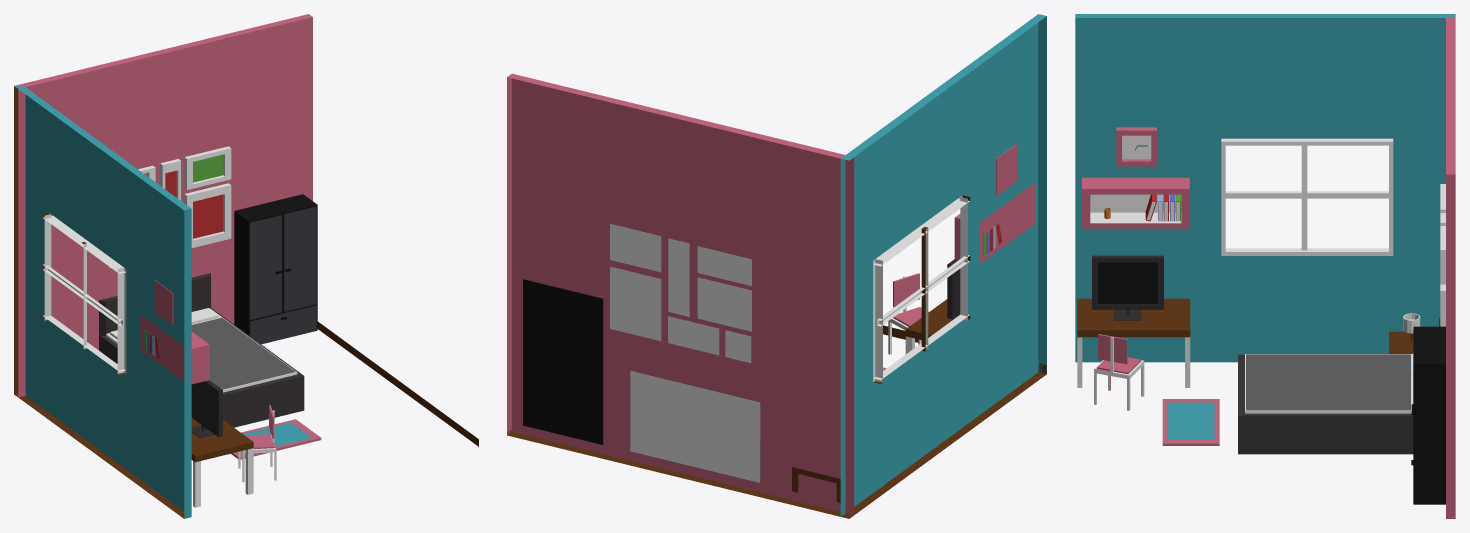
Rendered from room1.fbx.
The picture shows the model from 3 angles, left to right: view 1: azimuth 30°, elevation 25°; view 2: azimuth 150°, elevation 25°; view 3: azimuth 270°, elevation 25°; orthographic projection. The views are drawn at different scales.
Visible parts, largest first — view 1: room, wadrobe, bed, frames, frames.007, frames.003, computer, stool 2, mat, chair, frames.002, frames.008; view 2: room, wadrobe, bed, frames, frames.007, frames.006, frames.003, frames.002, frames.005, frames.001, chair, frames.008 (+3 smaller); view 3: room, bed, wadrobe, frames.007, computer, stool 2, mat, chair, frames.008, stool.
Part boxes in pixels (x1=…): room: x1=14, y1=14, x2=478, y2=518; wadrobe: x1=234, y1=194, x2=317, y2=344; bed: x1=99, y1=273, x2=304, y2=427; frames: x1=184, y1=183, x2=231, y2=248; frames.007: x1=140, y1=314, x2=209, y2=384; frames.003: x1=184, y1=146, x2=231, y2=189; computer: x1=191, y1=380, x2=222, y2=437; stool 2: x1=191, y1=418, x2=253, y2=462; mat: x1=231, y1=419, x2=321, y2=459; chair: x1=238, y1=405, x2=276, y2=482; frames.002: x1=160, y1=159, x2=180, y2=200; frames.008: x1=154, y1=280, x2=173, y2=325; room: x1=507, y1=14, x2=1046, y2=518; wadrobe: x1=523, y1=279, x2=603, y2=444; bed: x1=630, y1=370, x2=760, y2=482; frames: x1=610, y1=266, x2=661, y2=340; frames.007: x1=954, y1=183, x2=1034, y2=264; frames.006: x1=697, y1=277, x2=751, y2=331; frames.003: x1=610, y1=223, x2=661, y2=272; frames.002: x1=668, y1=238, x2=689, y2=316; frames.005: x1=697, y1=246, x2=751, y2=285; frames.001: x1=668, y1=316, x2=719, y2=355; chair: x1=888, y1=273, x2=928, y2=354; frames.008: x1=996, y1=143, x2=1017, y2=196; room: x1=1075, y1=14, x2=1455, y2=518; bed: x1=1238, y1=317, x2=1440, y2=454; wadrobe: x1=1413, y1=326, x2=1445, y2=504; frames.007: x1=1082, y1=177, x2=1189, y2=228; computer: x1=1092, y1=255, x2=1163, y2=315; stool 2: x1=1077, y1=298, x2=1190, y2=337; mat: x1=1162, y1=399, x2=1219, y2=445; chair: x1=1094, y1=334, x2=1144, y2=410; frames.008: x1=1116, y1=127, x2=1156, y2=166; stool: x1=1389, y1=331, x2=1413, y2=353.
Size of what is drawn, in the model's own units: 1333 by 1333 by 1333.
